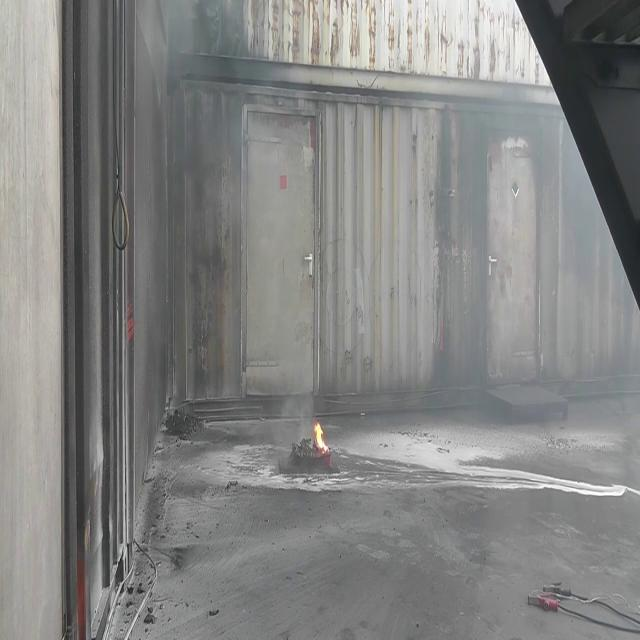Fire: (312, 412, 328, 458)
